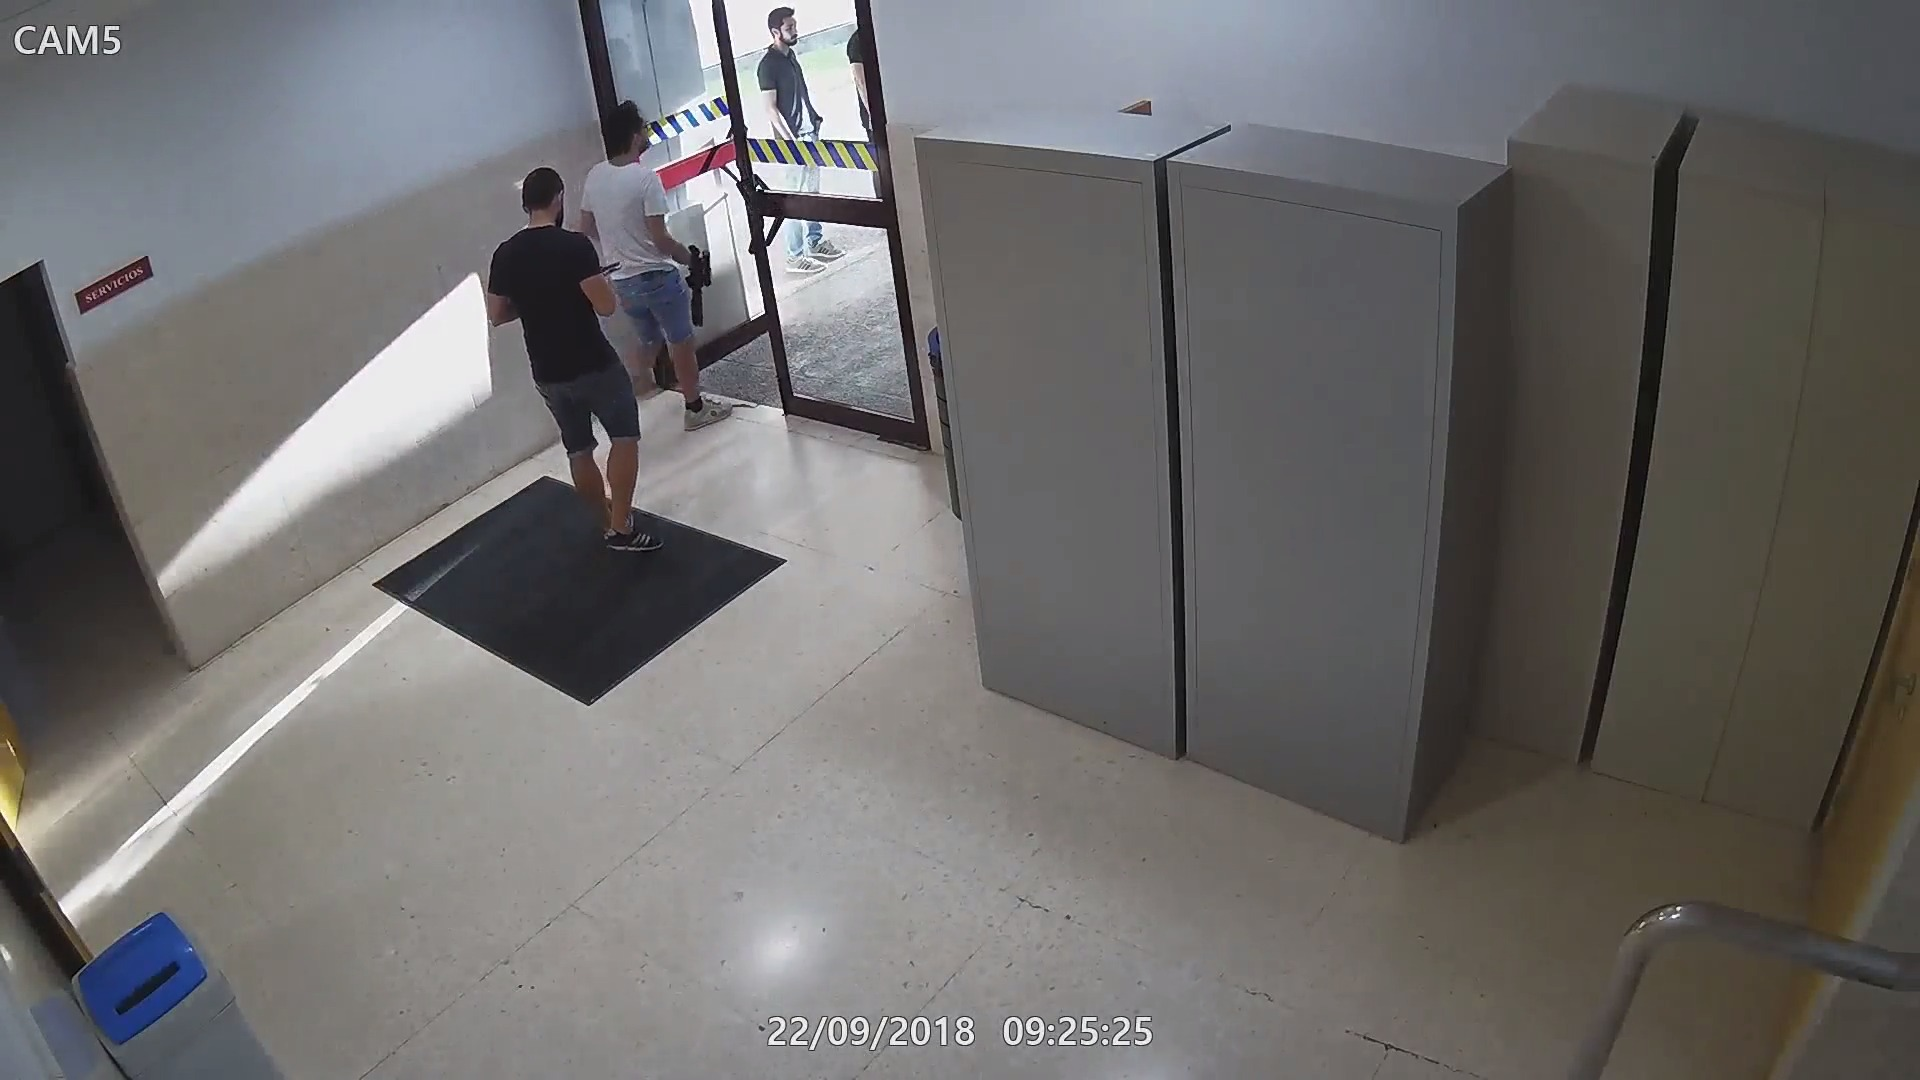Short_rifle: (678, 241, 715, 328)
